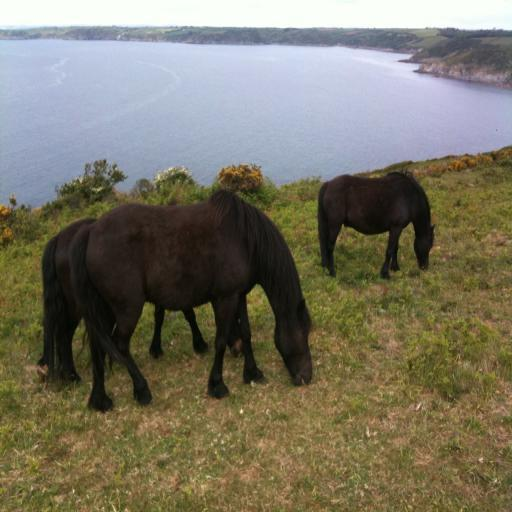horse: (69, 189, 313, 414), (38, 218, 246, 392), (316, 168, 438, 282)
